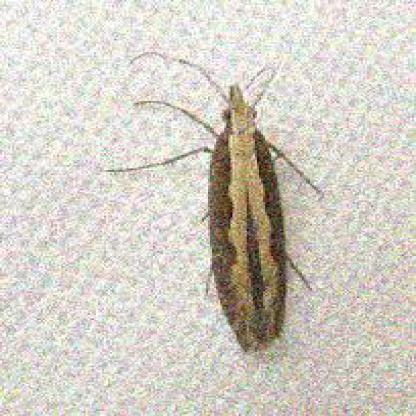plutella: (84, 50, 335, 357)
